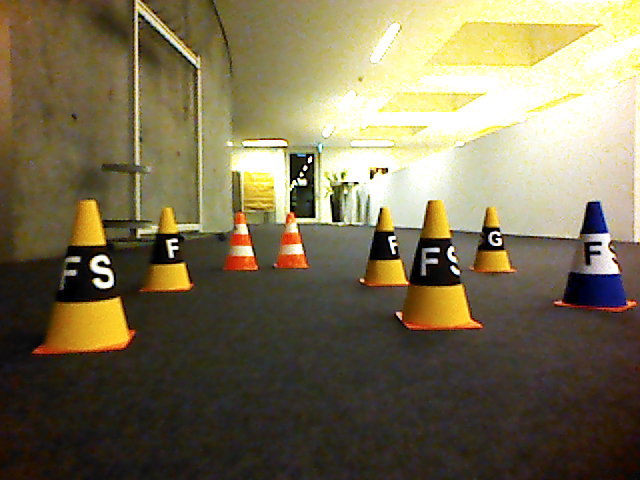bluecone: (554, 200, 638, 313)
orangeconesmall: (222, 212, 261, 272), (273, 211, 310, 270)
yellowcone: (34, 198, 130, 356), (140, 207, 198, 295), (358, 207, 412, 288), (467, 204, 518, 273)
